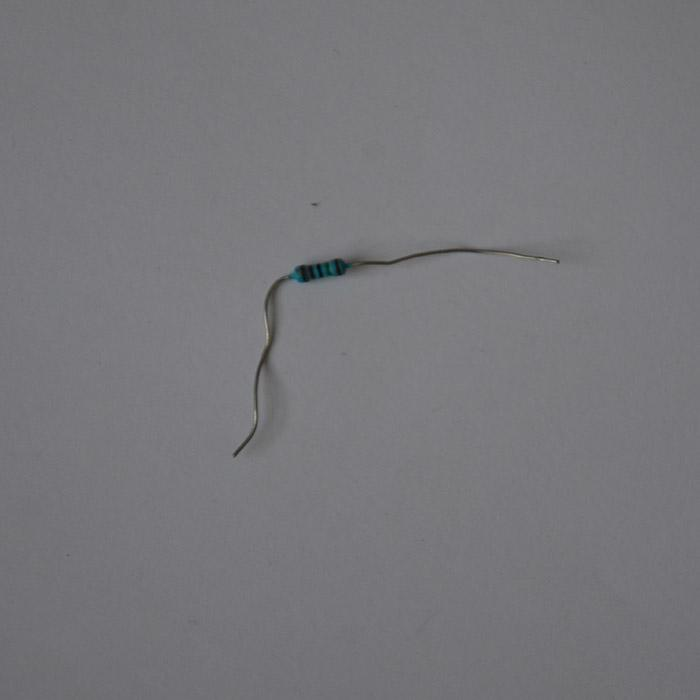resistor: (291, 259, 351, 286)
